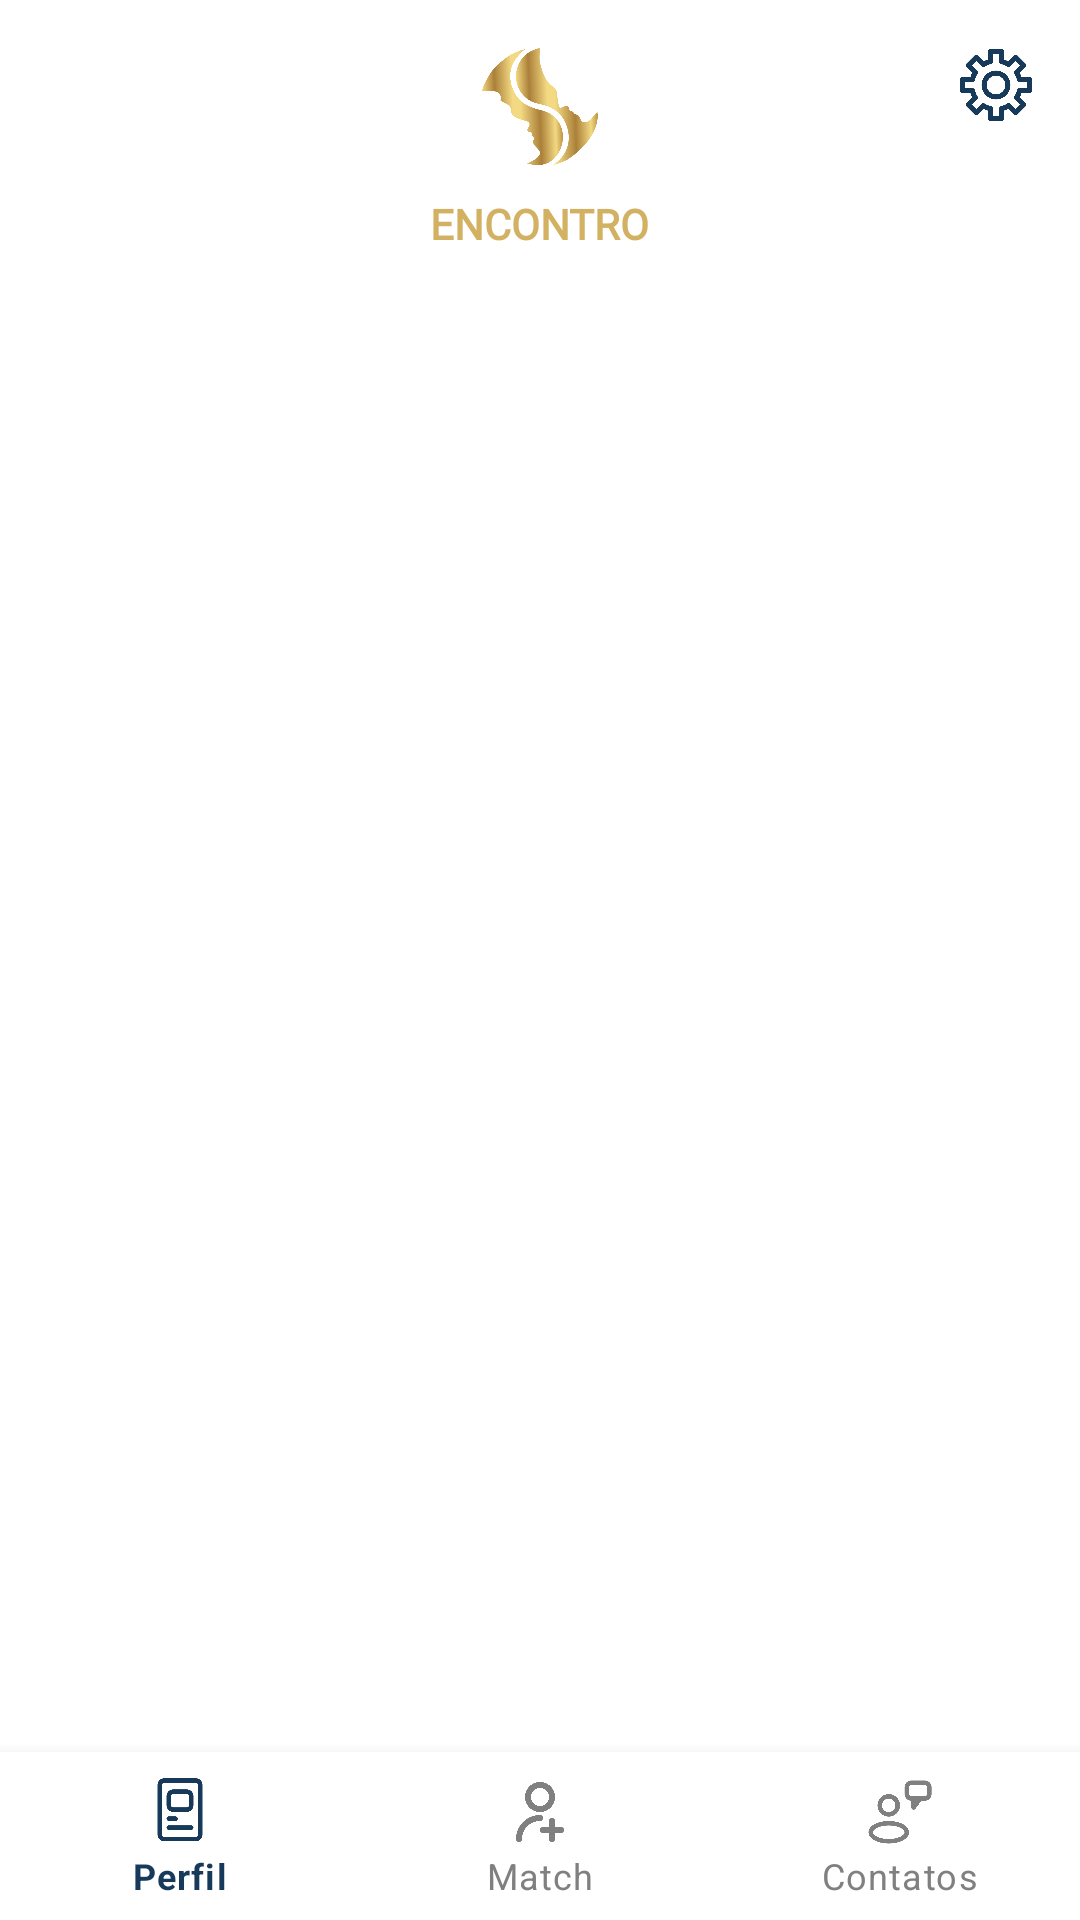

Where icons sit on this 1080px×1920px app screen, as (x1, y1, x2, y2):
Configurações: (960, 49, 1032, 121)
